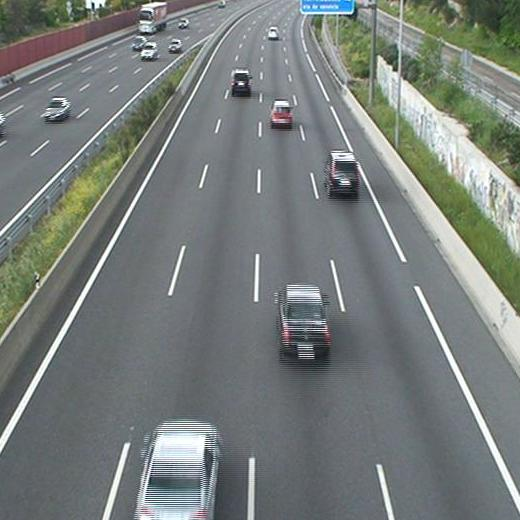car: (135, 420, 222, 520), (276, 286, 331, 365), (325, 149, 361, 201), (267, 100, 294, 128), (231, 69, 252, 96), (268, 26, 279, 40)
